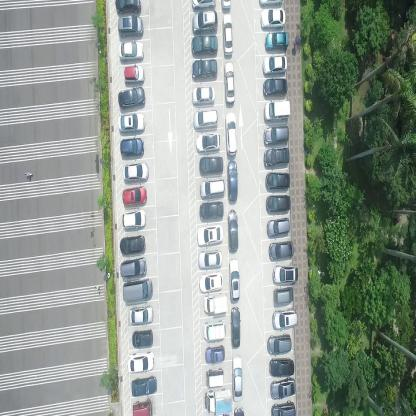car: (122, 277, 154, 302), (204, 388, 232, 414), (117, 86, 146, 109), (270, 375, 296, 400), (197, 223, 224, 247), (263, 99, 291, 122), (127, 351, 155, 374), (224, 111, 238, 156), (268, 238, 294, 262), (192, 10, 218, 34), (119, 233, 146, 256), (198, 271, 224, 294), (259, 8, 286, 30), (117, 16, 144, 38), (191, 34, 219, 55), (272, 307, 297, 330), (263, 124, 289, 146), (262, 53, 288, 75), (131, 375, 157, 397), (191, 58, 217, 80), (196, 131, 222, 153), (202, 293, 228, 315), (223, 60, 236, 104), (228, 258, 241, 302), (272, 263, 299, 284), (263, 146, 290, 167), (118, 112, 146, 132), (202, 319, 226, 342), (263, 76, 288, 98), (119, 40, 144, 62), (193, 108, 218, 130), (122, 185, 148, 206), (120, 257, 147, 277), (222, 12, 234, 57), (266, 215, 290, 237), (265, 30, 289, 52), (266, 332, 291, 353), (198, 154, 223, 175), (268, 356, 294, 376), (122, 160, 148, 180), (128, 304, 154, 324), (199, 178, 225, 198), (198, 249, 224, 269), (266, 193, 291, 213), (191, 86, 216, 106), (120, 209, 146, 228), (232, 354, 242, 403), (120, 136, 144, 156), (205, 366, 225, 390), (199, 201, 224, 220), (273, 284, 294, 306), (227, 160, 238, 202), (266, 170, 290, 189), (123, 64, 145, 84), (131, 328, 153, 348), (204, 344, 226, 364), (228, 208, 238, 252), (231, 306, 241, 349), (270, 400, 296, 416), (115, 0, 142, 15), (132, 397, 154, 415), (190, 0, 217, 11)
